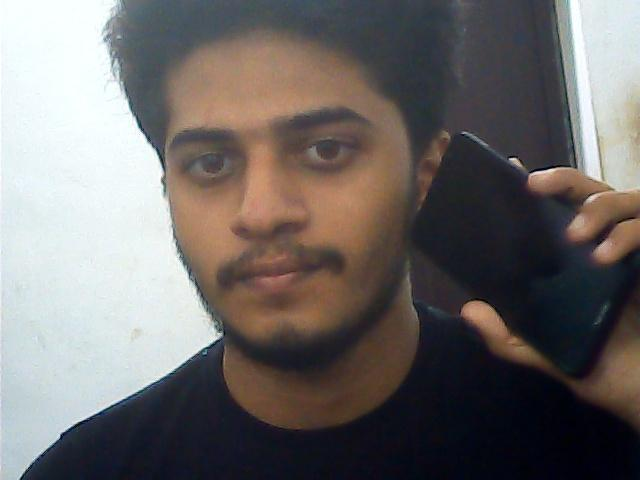PhoneUse: (424, 137, 624, 372)
SafeDriving: (284, 120, 372, 176), (170, 136, 256, 192)
